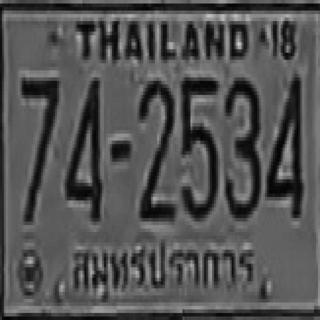N02: (137, 77, 173, 218)
N03: (224, 76, 262, 219)
N04: (265, 70, 304, 219), (64, 74, 101, 218)
N05: (179, 76, 217, 220)
N07: (20, 73, 57, 221)
P57: (66, 234, 261, 292)
